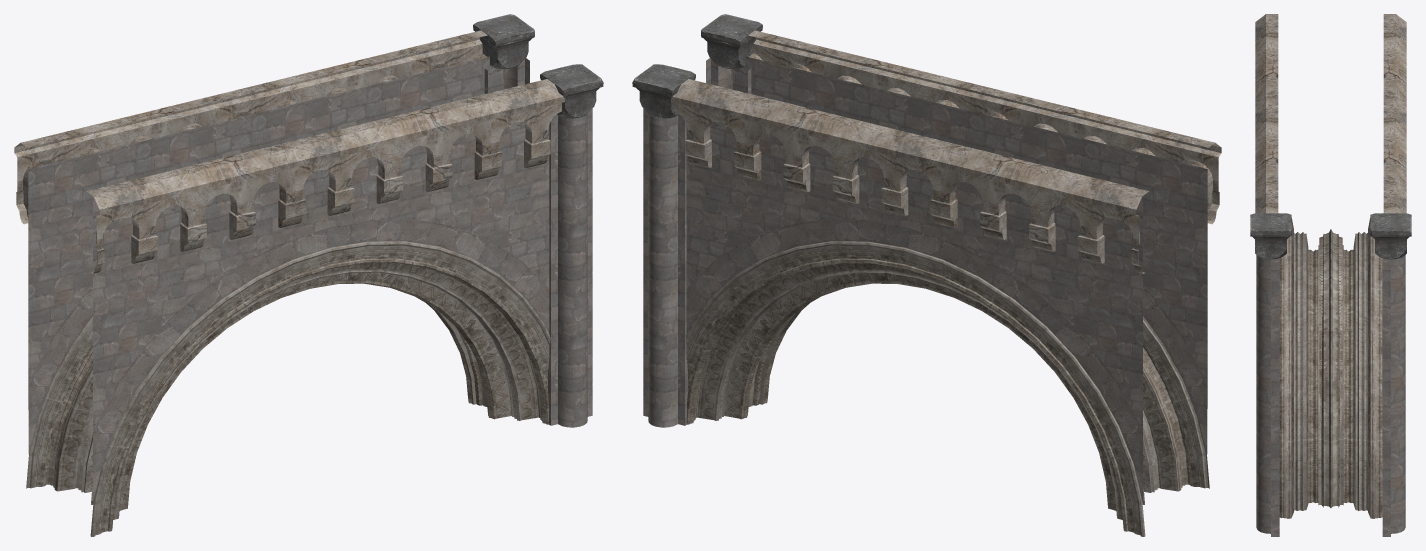
The picture shows the model from 3 angles, left to right: view 1: azimuth 30°, elevation 25°; view 2: azimuth 150°, elevation 25°; view 3: azimuth 270°, elevation 25°; orthographic projection. The views are drawn at different scales.
Parts seen in each view (by area): view 1: SM_ArcadeCeiling_v2_LOD0; view 2: SM_ArcadeCeiling_v2_LOD0; view 3: SM_ArcadeCeiling_v2_LOD0.
Boxes of the visible parts, x1,y1,x2,y2 form: SM_ArcadeCeiling_v2_LOD0: (14,14,603,536); SM_ArcadeCeiling_v2_LOD0: (632,14,1221,536); SM_ArcadeCeiling_v2_LOD0: (1250,14,1411,536).
Size of the model in its own units: 9.39 by 6.16 by 2.95.
4 materials, 4 textured.
